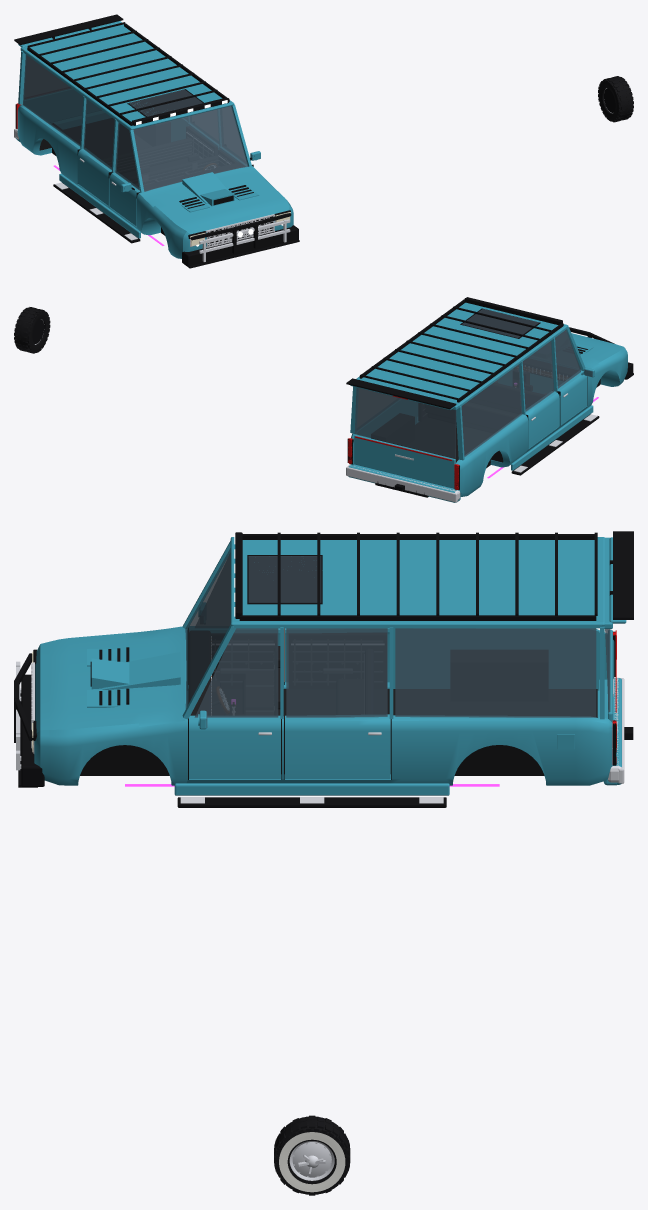
The model's file is ShorelineSix.glb.
The picture shows the model from 3 angles, top to bottom: view 1: azimuth 30°, elevation 25°; view 2: azimuth 150°, elevation 25°; view 3: azimuth 270°, elevation 25°; orthographic projection. The views are drawn at different scales.
Parts seen in each view (by area): view 1: ShorelineSix_PanelRoof, ShorelineSix_Glass, ShorelineSix_PanelHood, ShorelineSix_OptTopRackDark, ShorelineSix_PanelSideR, ShorelineSix_RoofGlass, ShorelineSix_Carpet, ShorelineSix_Body, ShorelineSix_OptFrontBumperBullDark, ShorelineSix_RoofBody, ShorelineSix_RoofGlass__WinDoorRR, ShorelineSix_Lid (+20 smaller); view 2: ShorelineSix_PanelRoof, ShorelineSix_RoofGlass__Lid, ShorelineSix_RoofGlass, ShorelineSix_OptTopRackDark, ShorelineSix_PanelSideR, ShorelineSix_Carpet, ShorelineSix_Lid, ShorelineSix_Body, ShorelineSix_OptSeatsBucketsSeat, ShorelineSix_RoofBody, ShorelineSix_RoofGlass__WinDoorRR, ShorelineSix_PanelDoorRR (+16 smaller); view 3: ShorelineSix_PanelRoof, ShorelineSix_RoofGlass, ShorelineSix_PanelSideL, ShorelineSix_Carpet, ShorelineSix_Body, ShorelineSix_PanelHood, ShorelineSix_RoofGlass__WinDoorRL, ShorelineSix_OptTopRackDark, ShorelineSix_PanelDoorRL, ShorelineSix_PanelDoorL, ShorelineSix_RoofGlass__WinDoorL, ShorelineSix_Under (+19 smaller).
Boxes of the visible parts, x1,y1,x2,y2 form: ShorelineSix_PanelRoof: (22, 24, 234, 129); ShorelineSix_Glass: (133, 106, 248, 191); ShorelineSix_PanelHood: (140, 166, 290, 234); ShorelineSix_OptTopRackDark: (27, 22, 229, 125); ShorelineSix_PanelSideR: (17, 106, 184, 258); ShorelineSix_RoofGlass: (23, 54, 186, 145); ShorelineSix_Carpet: (39, 118, 170, 158); ShorelineSix_Body: (20, 104, 293, 258); ShorelineSix_OptFrontBumperBullDark: (182, 213, 298, 267); ShorelineSix_RoofBody: (18, 51, 251, 192); ShorelineSix_RoofGlass__WinDoorRR: (83, 99, 114, 169); ShorelineSix_Lid: (20, 46, 100, 122); ShorelineSix_PanelRoof: (356, 302, 568, 406); ShorelineSix_RoofGlass__Lid: (354, 387, 456, 458); ShorelineSix_RoofGlass: (357, 364, 522, 456); ShorelineSix_OptTopRackDark: (359, 298, 563, 402); ShorelineSix_PanelSideR: (456, 348, 627, 496); ShorelineSix_Carpet: (371, 402, 518, 462); ShorelineSix_Lid: (354, 405, 458, 488); ShorelineSix_Body: (351, 369, 619, 495); ShorelineSix_OptSeatsBucketsSeat: (426, 384, 532, 432); ShorelineSix_RoofBody: (350, 326, 585, 460); ShorelineSix_RoofGlass__WinDoorRR: (522, 341, 554, 411); ShorelineSix_PanelDoorRR: (525, 391, 559, 448); ShorelineSix_PanelRoof: (230, 537, 604, 626); ShorelineSix_RoofGlass: (395, 628, 596, 717); ShorelineSix_PanelSideL: (40, 720, 612, 785); ShorelineSix_Carpet: (220, 650, 597, 773); ShorelineSix_Body: (34, 628, 614, 784); ShorelineSix_PanelHood: (35, 626, 185, 736); ShorelineSix_RoofGlass__WinDoorRL: (286, 628, 387, 717); ShorelineSix_OptTopRackDark: (238, 532, 597, 620); ShorelineSix_PanelDoorRL: (285, 714, 390, 779); ShorelineSix_PanelDoorL: (189, 715, 280, 779); ShorelineSix_RoofGlass__WinDoorL: (194, 628, 278, 717); ShorelineSix_Under: (80, 745, 544, 775).
Bounding box in the file's own units: 35.22 × 8.58 × 20.52.
